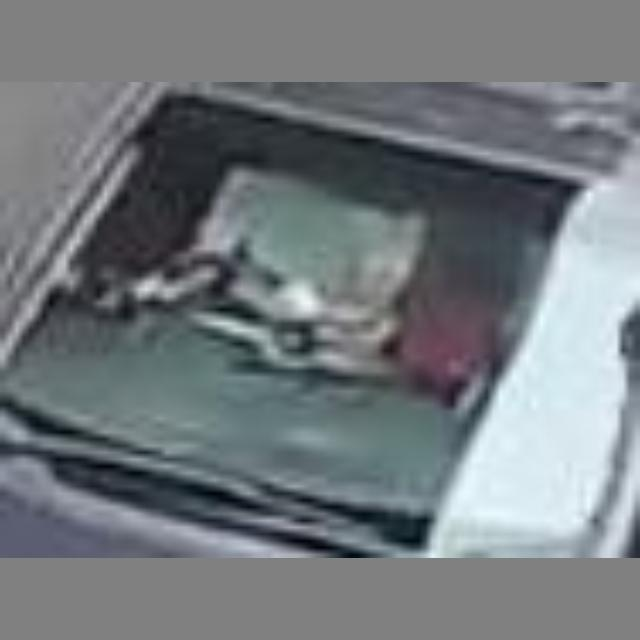tidak-pakai: (143, 123, 429, 402)
